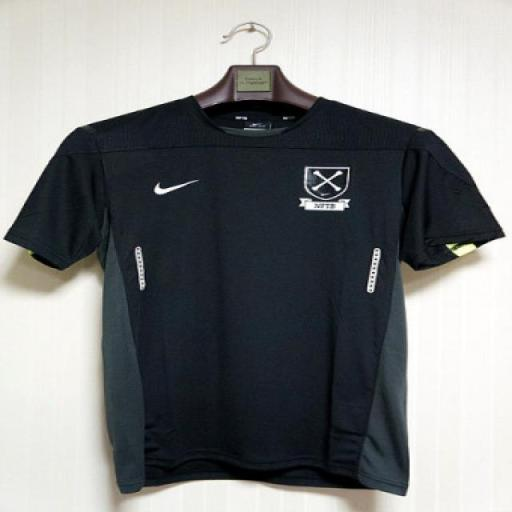Nike: (146, 175, 204, 201)
